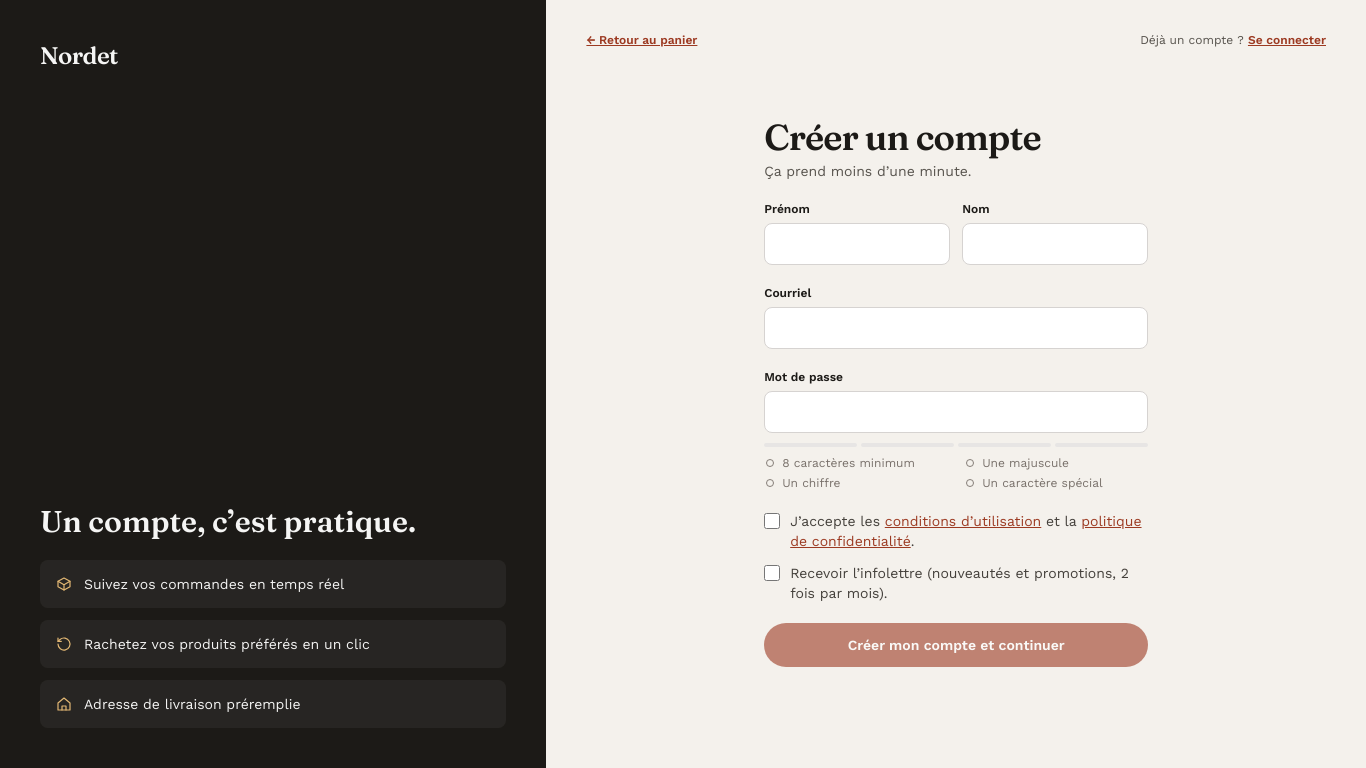
it: CreerComptePage › enables the submit button only once every password rule is met
Expected: the button "Créer mon compte et continuer" is disabled, [764,623,1148,667]
Type "Motdepasse1" into the password field labelled "Mot de passe" at point(956, 412), box [764,391,1148,433]
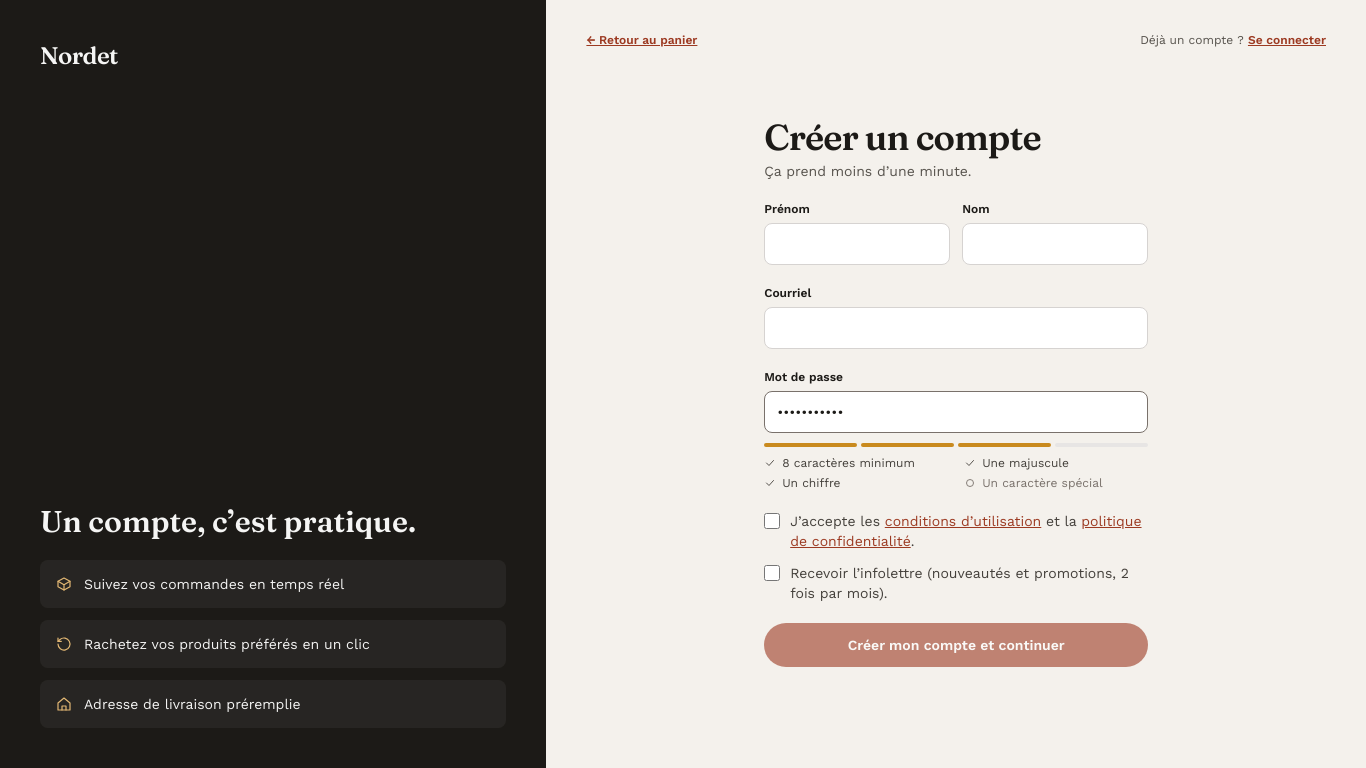
Expected: the button "Créer mon compte et continuer" is disabled, [764,623,1148,667]
Type "!" into the password field labelled "Mot de passe" at point(956, 412), box [764,391,1148,433]
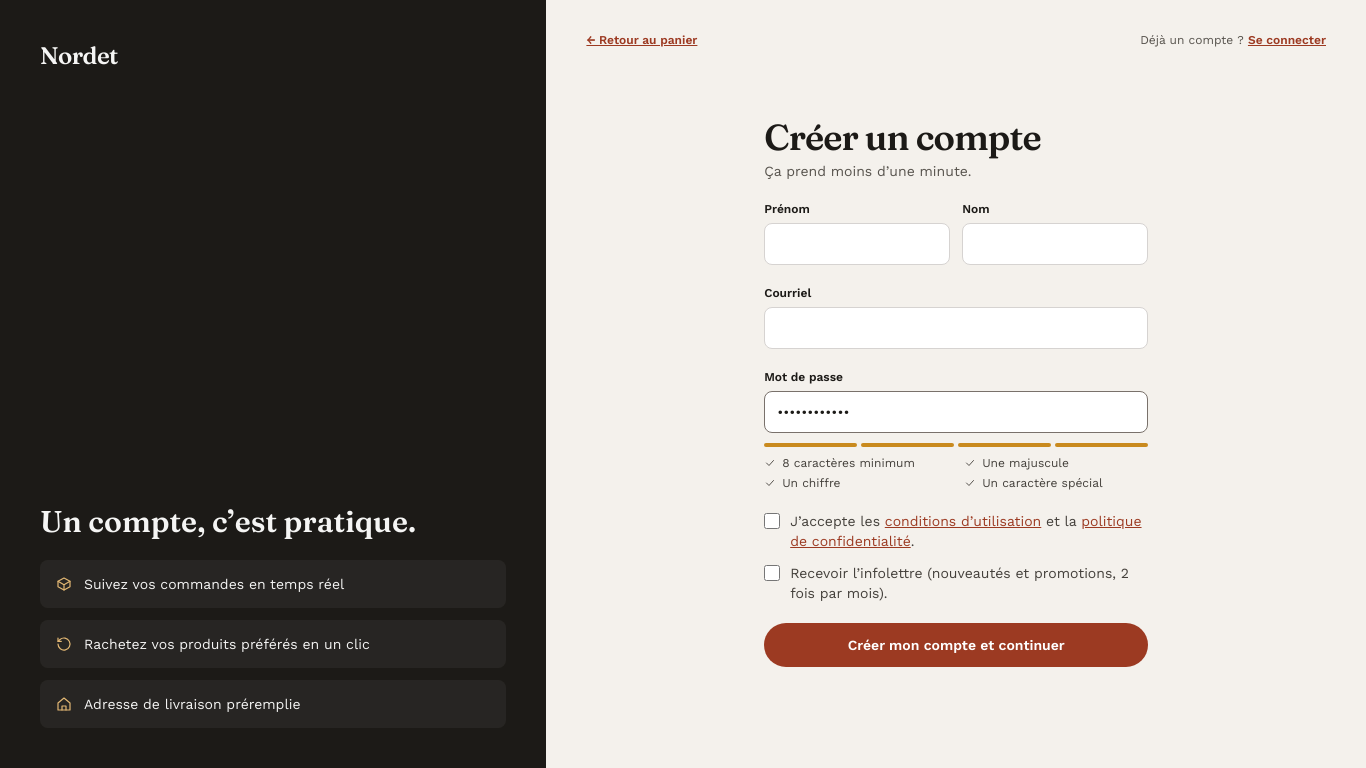
Expected: the button "Créer mon compte et continuer" is enabled, [764,623,1148,667]
